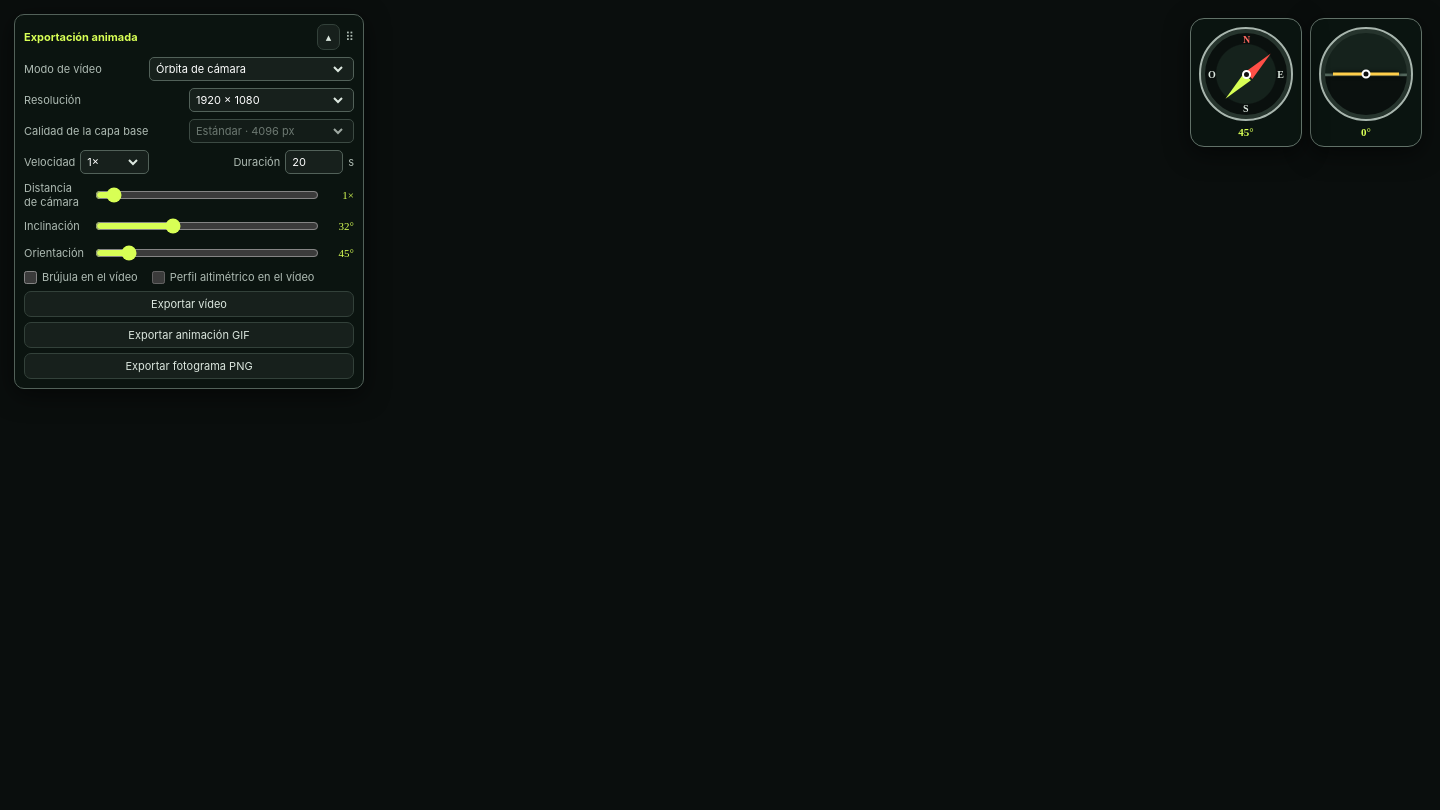
exportación del visor 3D › MP4 usa el renderizador AVI y encadena la conversión automáticamente
Step 1. Replace the text in the number field labelled "Duración s" with "2" → (314, 162), box [285, 150, 343, 174]
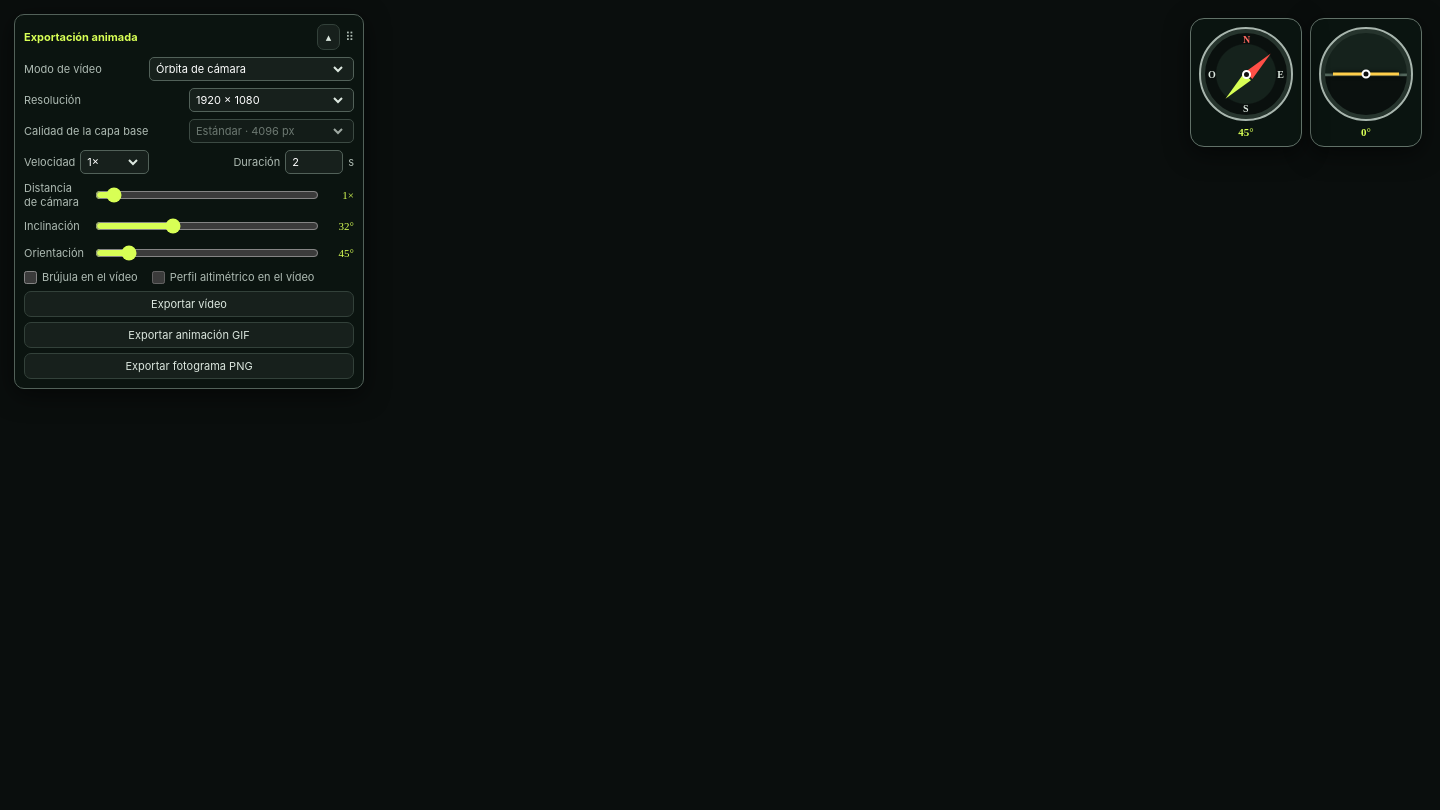
Step 2. Select "50×" in the dropdown labelled "Velocidad" → (115, 162), box [80, 150, 149, 174]
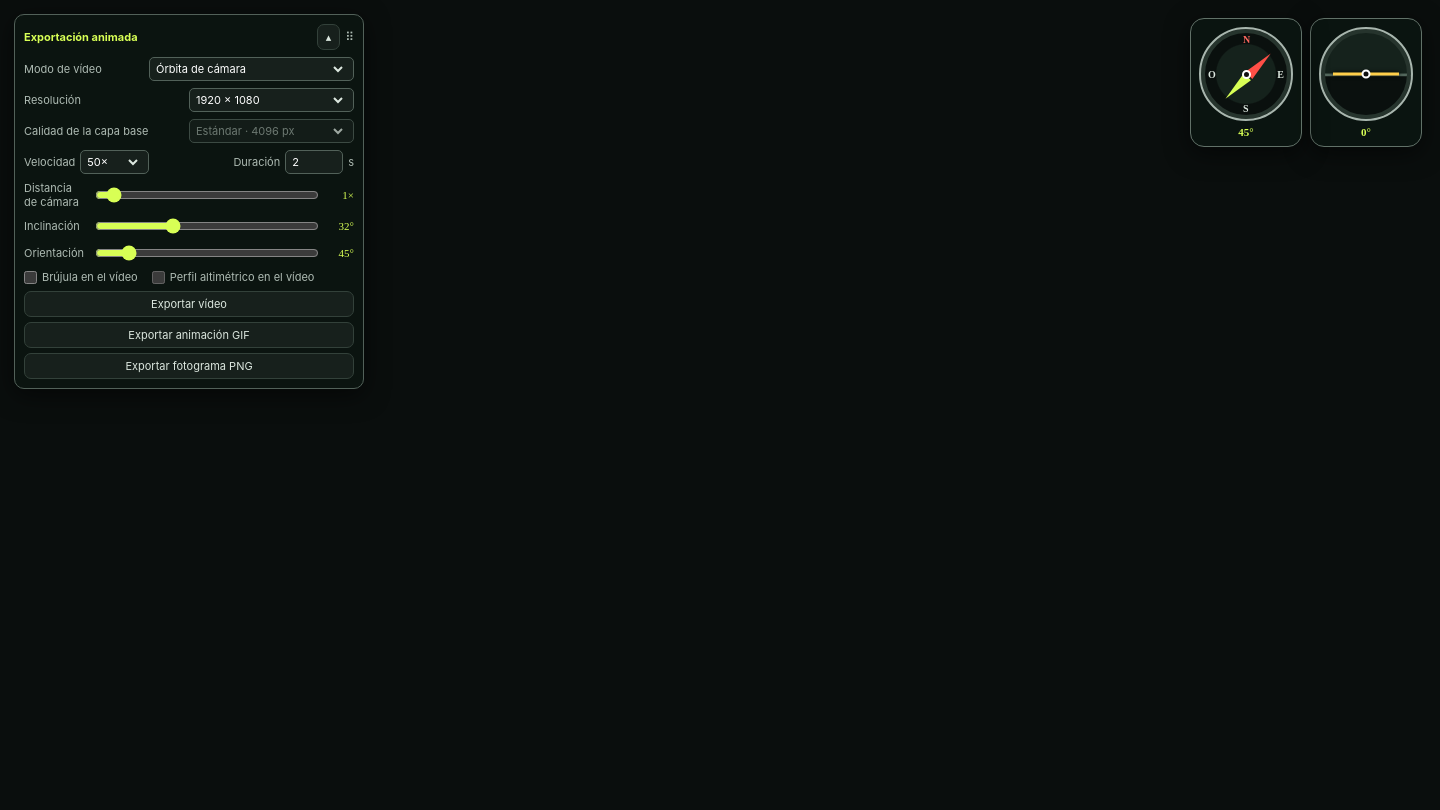
Step 3. Click the button "Exportar vídeo" → (189, 304), box [24, 291, 354, 317]
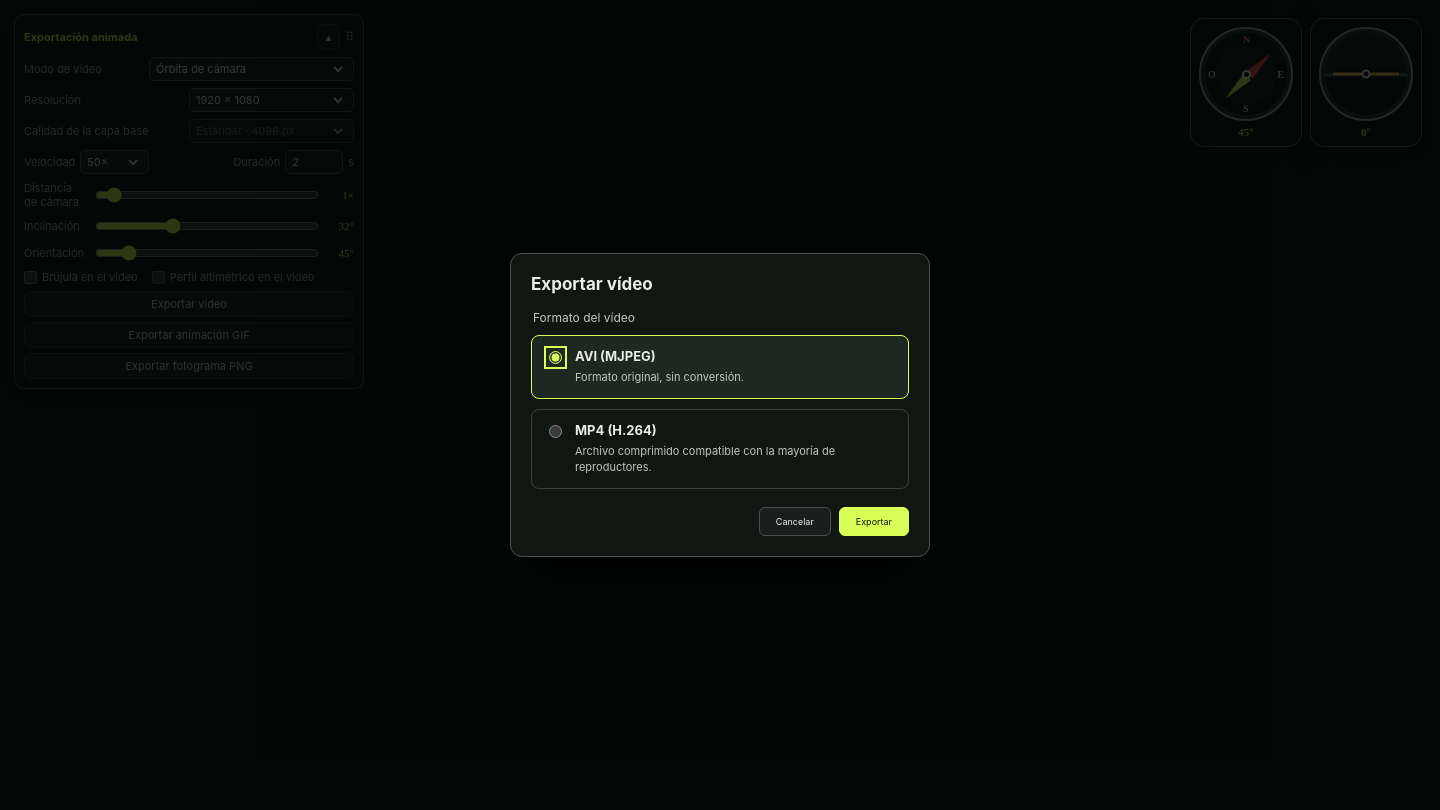
Step 4. Click the radio button labelled "MP4" → (556, 431), box [549, 425, 562, 438]
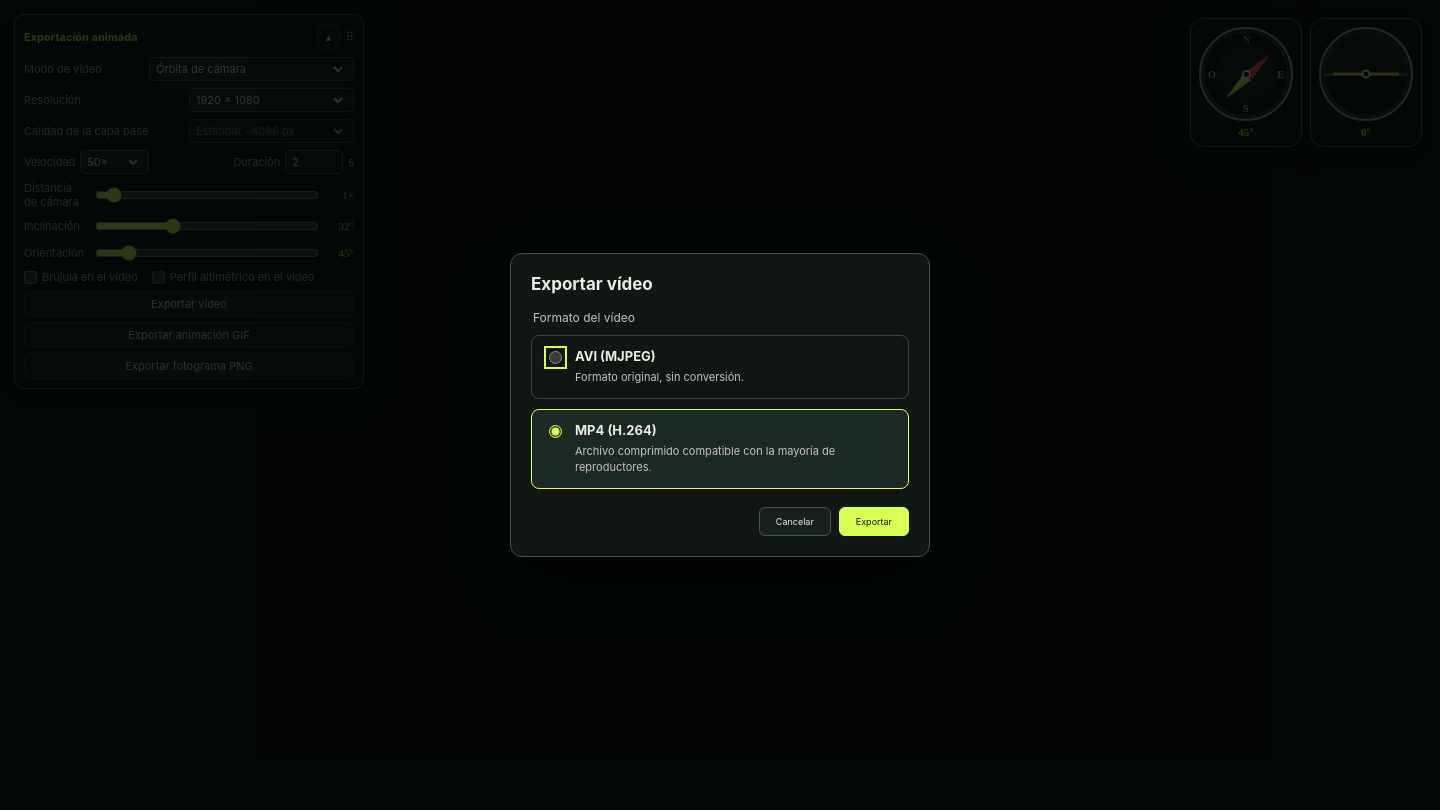
Step 5. Click the button "Exportar" → (874, 521), box [839, 507, 909, 536]
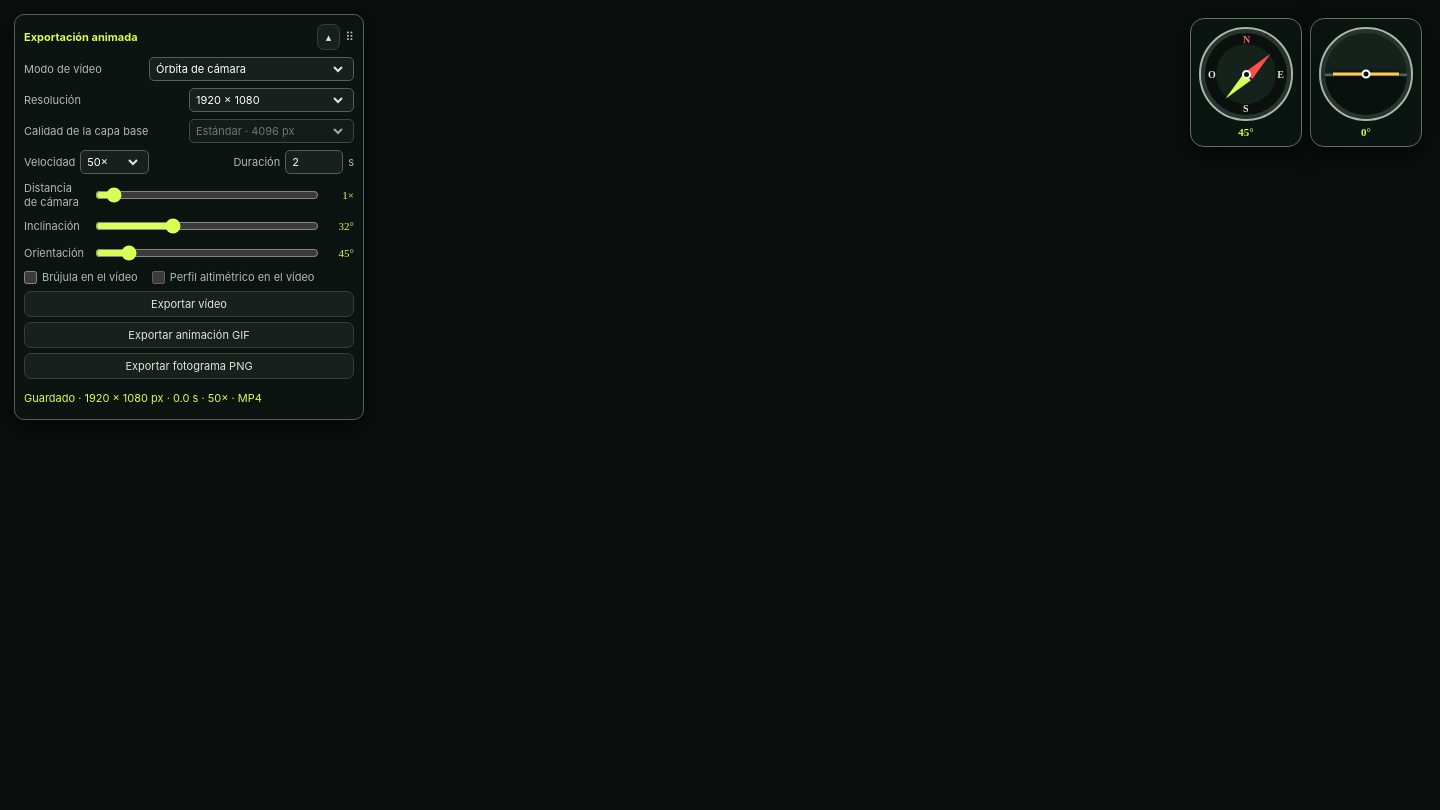
Result: the dialog is gone
Result: the button "Cancelar" is gone
Result: the text "Guardado · 1920 × 1080 px · 0.0 s · 50× · MP4" is shown at [24, 391, 262, 405]
